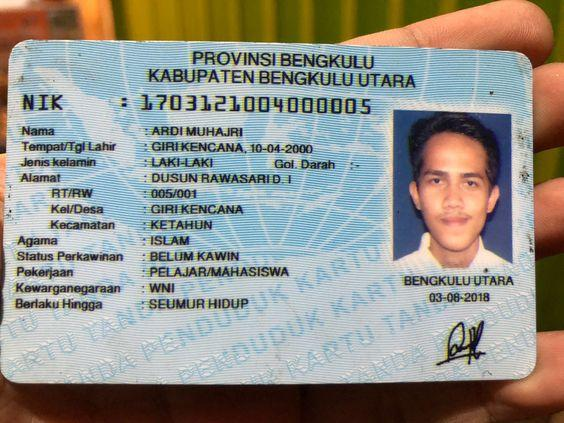ID-card: (1, 41, 533, 378)
